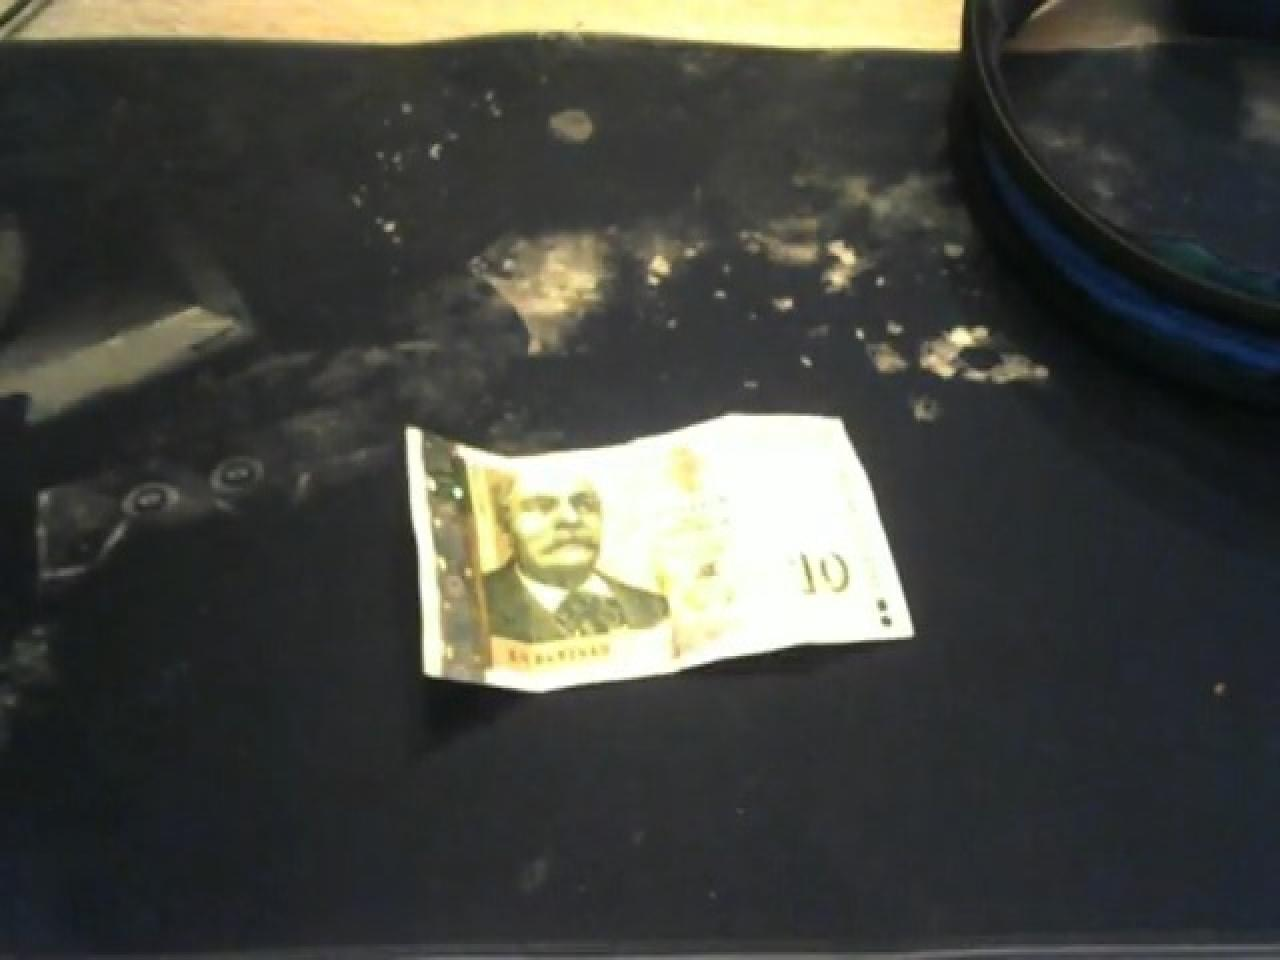10leva: (406, 416, 914, 696)
